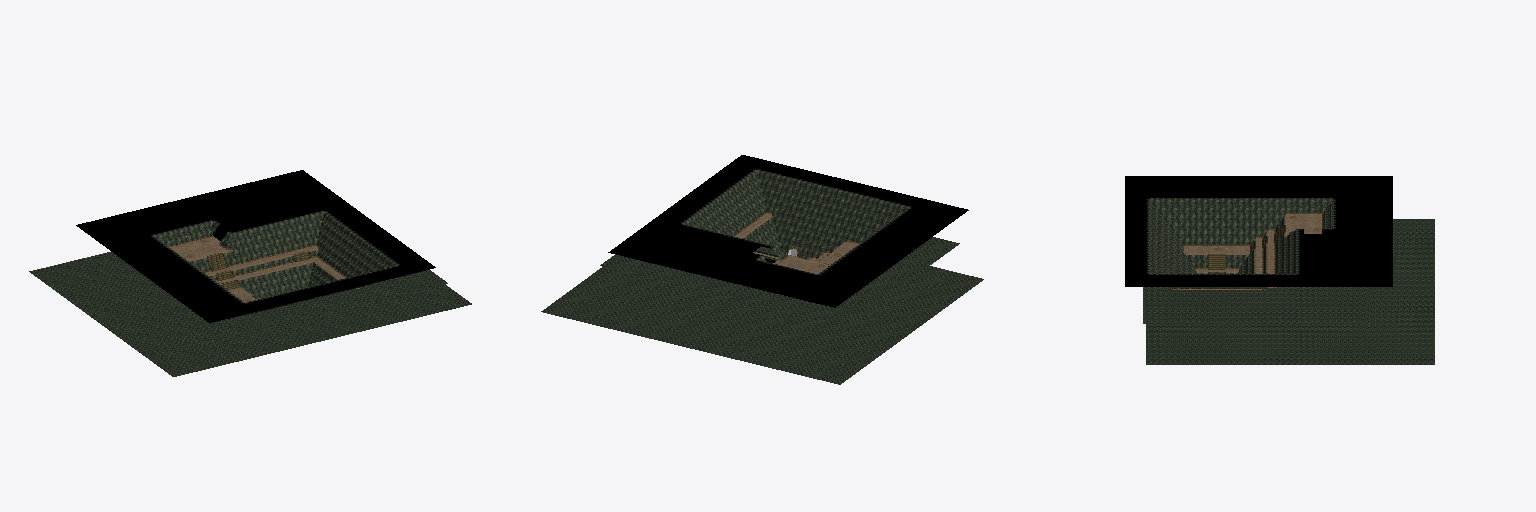
3 views of the same model, side by side, from view 1: azimuth 30°, elevation 25°; view 2: azimuth 150°, elevation 25°; view 3: azimuth 270°, elevation 25° (orthographic).
Parts seen in each view (by area): view 1: polygon8, polygon12, polygon7, polygon5, polygon9, polygon11, polygon6; view 2: polygon8, polygon12, polygon7, polygon5, polygon9; view 3: polygon8, polygon12, polygon7, polygon5, polygon9, polygon6.
Boxes of the visible parts, box(x1,y1,x2,y2) form: polygon8: box(29, 241, 471, 376); polygon12: box(76, 170, 435, 322); polygon7: box(156, 213, 394, 314); polygon5: box(152, 211, 398, 302); polygon9: box(170, 237, 359, 302); polygon11: box(207, 251, 310, 298); polygon6: box(168, 235, 362, 298); polygon8: box(541, 237, 983, 384); polygon12: box(608, 155, 968, 307); polygon7: box(685, 172, 907, 261); polygon5: box(682, 170, 910, 274); polygon9: box(735, 213, 858, 273); polygon8: box(1143, 219, 1434, 364); polygon12: box(1125, 176, 1392, 286); polygon7: box(1151, 200, 1330, 288); polygon5: box(1149, 199, 1333, 273); polygon9: box(1173, 214, 1321, 289); polygon6: box(1173, 212, 1323, 289).
Size of the model in its own units: 7.25 by 1.66 by 6.5.
Materials: 13 (13 with a texture image).